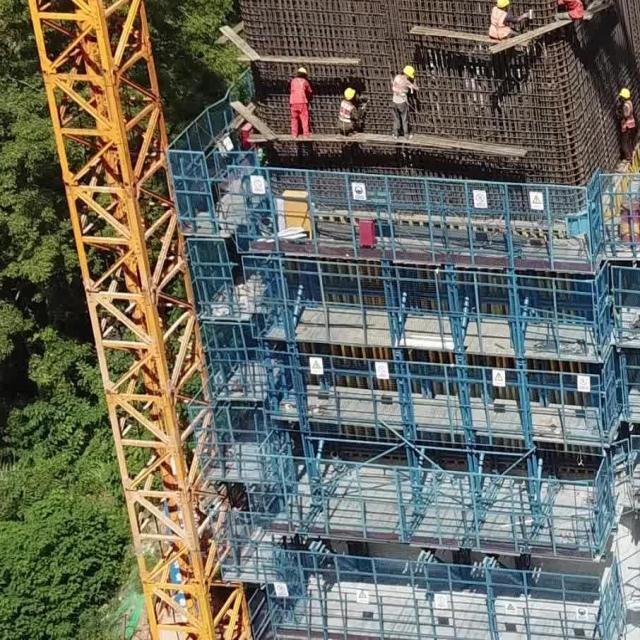crane: (16, 0, 269, 640)
